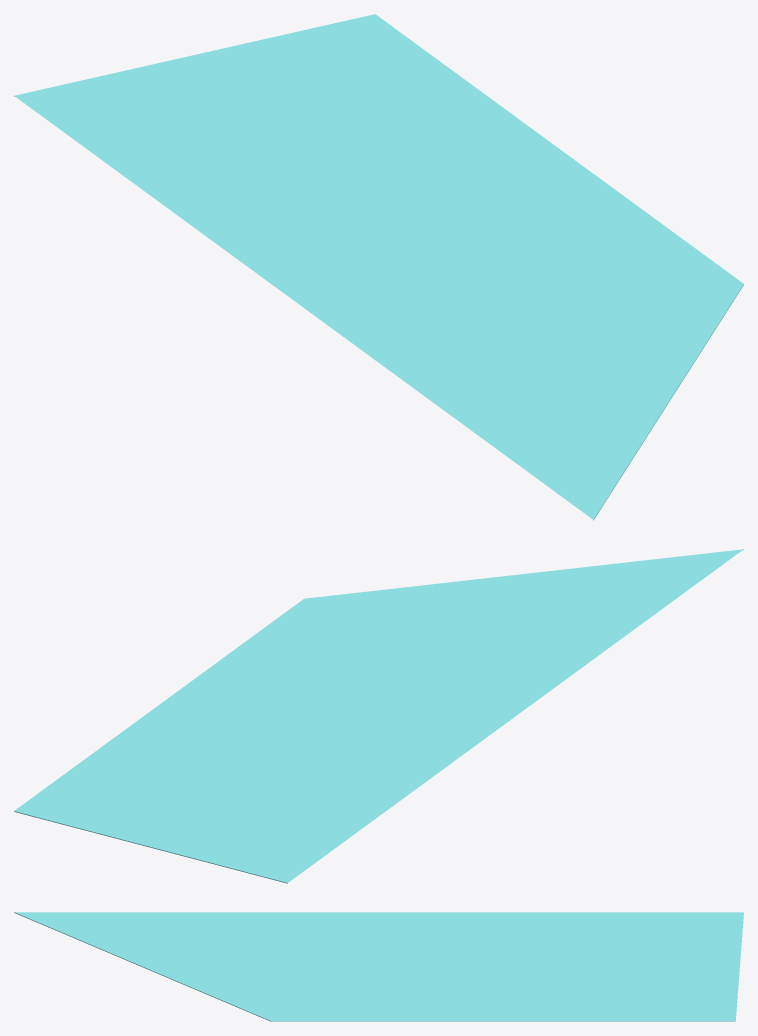
The model's file is sol5.FBX.
3 renders of one model, top to bottom at view 1: azimuth 30°, elevation 25°; view 2: azimuth 150°, elevation 25°; view 3: azimuth 270°, elevation 25°, orthographic. The views are drawn at different scales.
Parts seen in each view (by area): view 1: Object001; view 2: Object001; view 3: Object001.
Part boxes in pixels (x1,y1,x2,y2): Object001: (14, 14, 743, 520); Object001: (14, 549, 743, 883); Object001: (14, 912, 743, 1021).
Bounding box in the file's own units: 179 × 0.4686 × 507.
